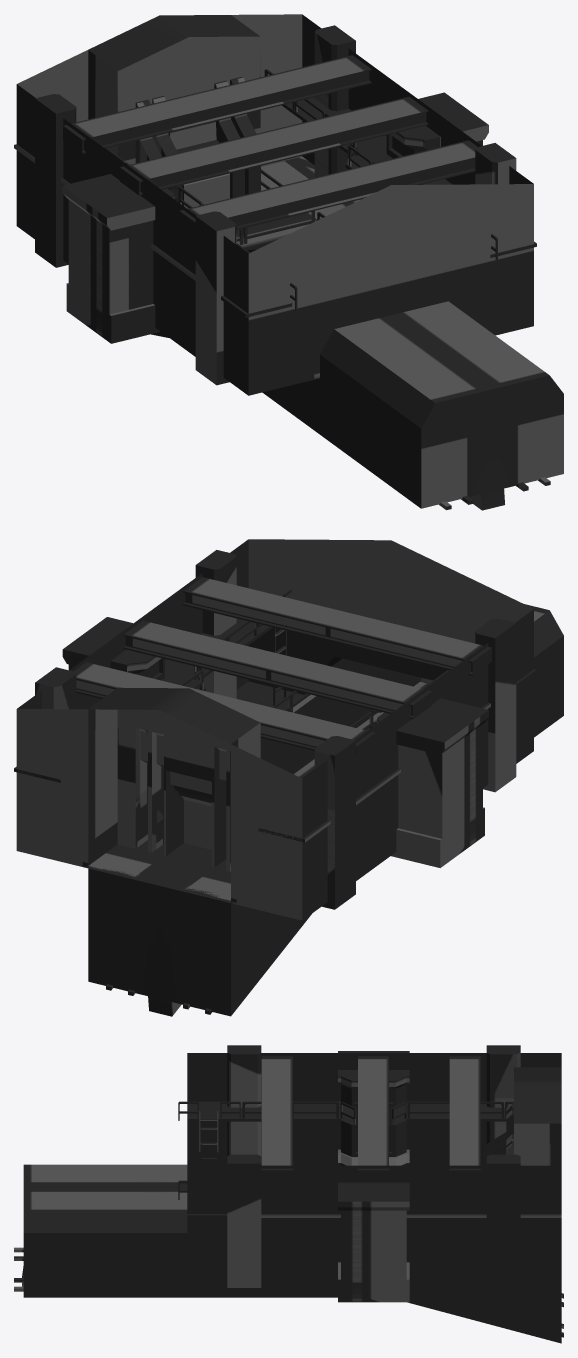
Rendered from BaseMain.fbx.
3 views of the same model, one above another, from view 1: azimuth 30°, elevation 25°; view 2: azimuth 150°, elevation 25°; view 3: azimuth 270°, elevation 25° (orthographic). The views are drawn at different scales.
Visible parts, largest first — view 1: Забор; view 2: Забор; view 3: Забор.
Part boxes in pixels (x1,y1,x2,y2): Забор: (14, 14, 563, 510); Забор: (14, 539, 563, 1016); Забор: (14, 1045, 563, 1343).
Size of the model in its own units: 56.24 by 42.89 by 86.85.
